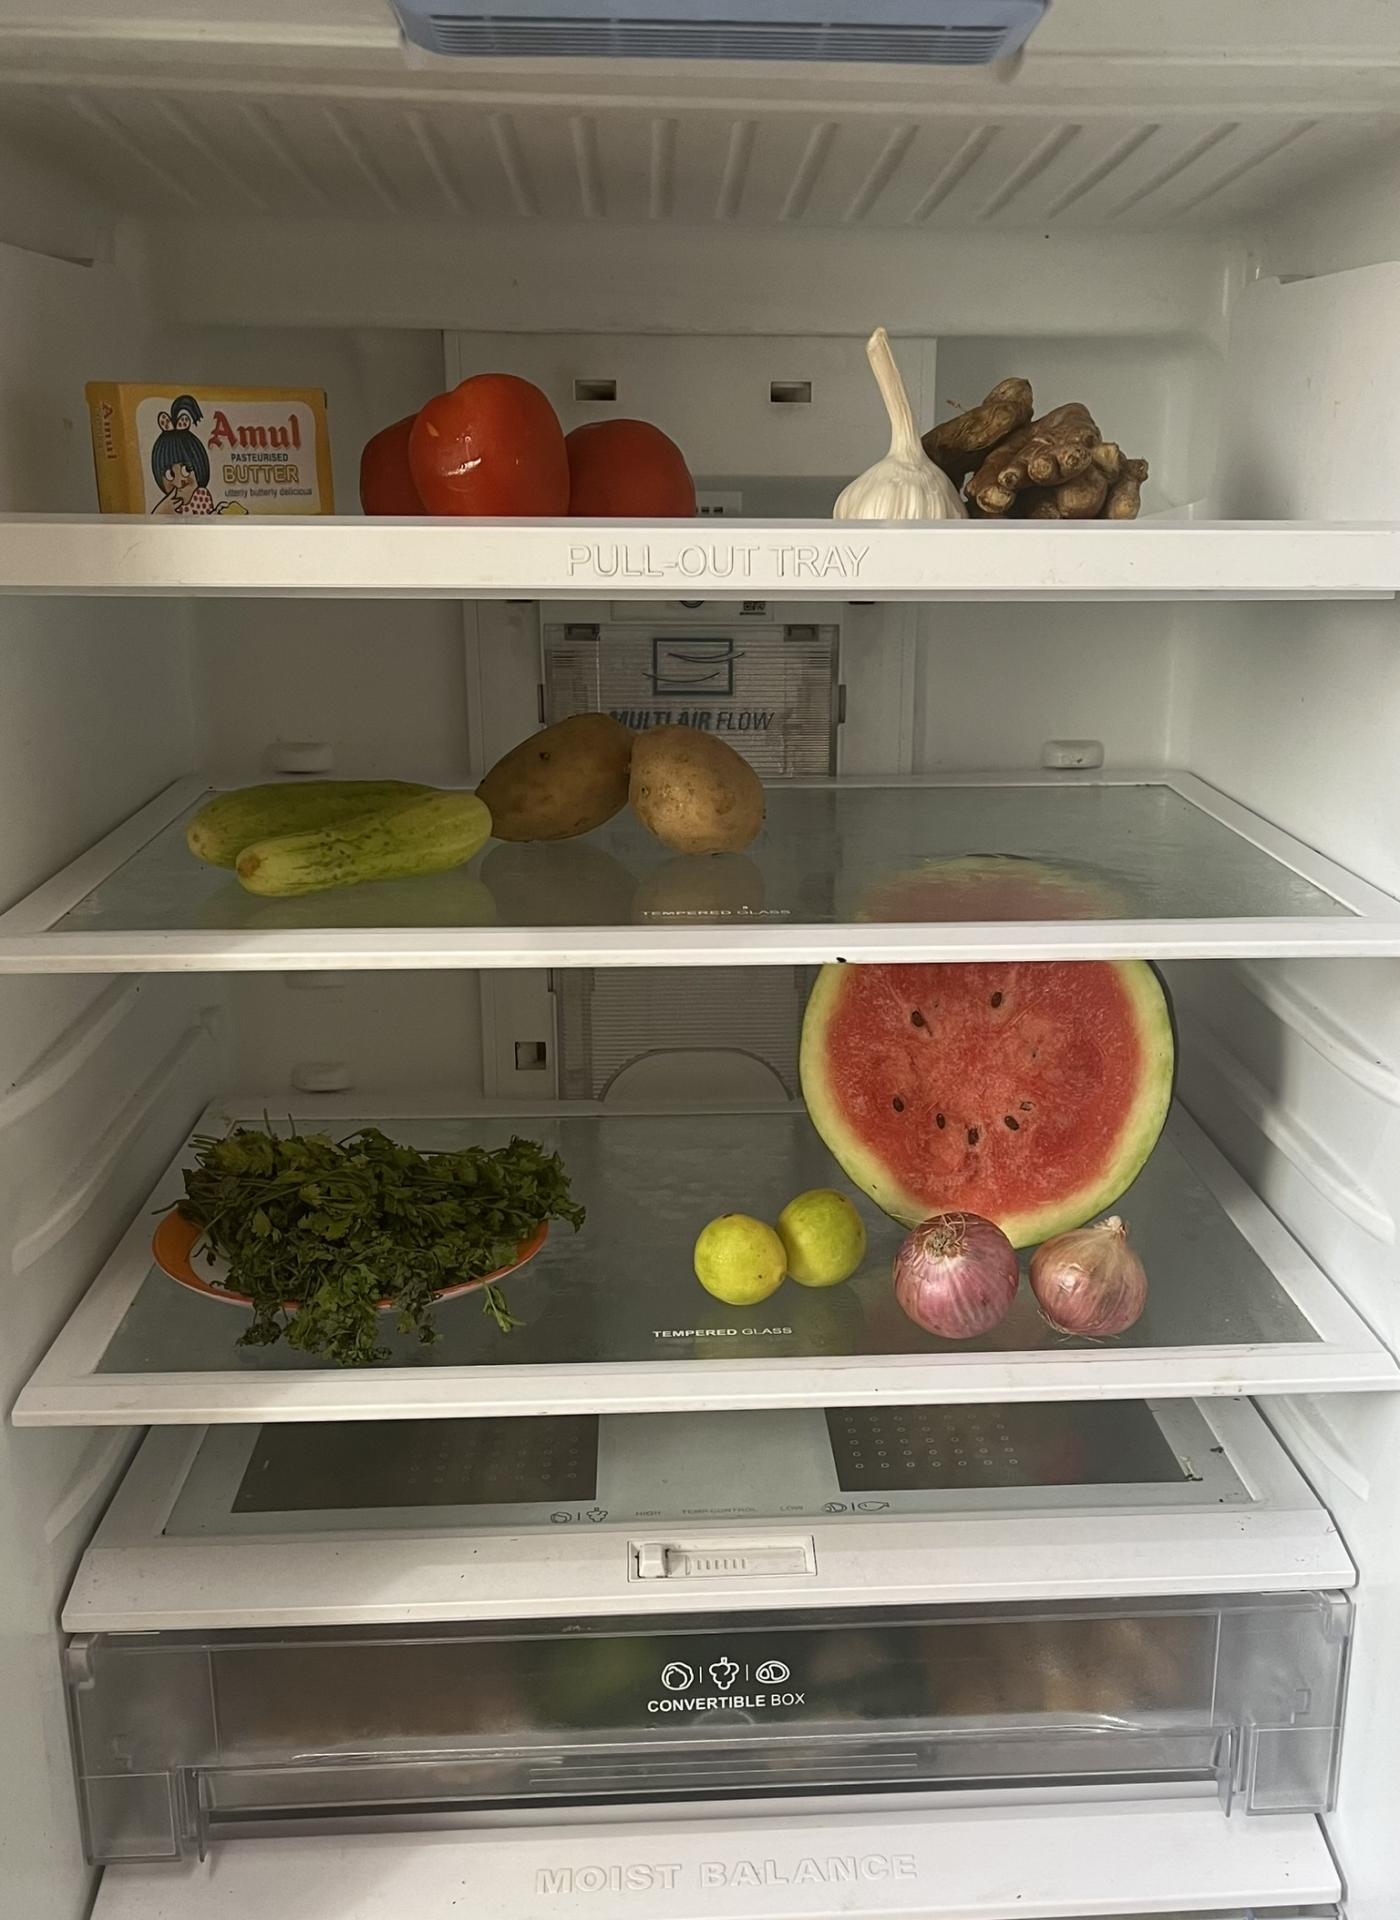butter: (88, 379, 337, 513)
coriander: (188, 1122, 568, 1348)
cucumber: (188, 778, 492, 881)
garlic: (830, 328, 966, 522)
ginger: (929, 379, 1148, 528)
lemon: (696, 1181, 863, 1300)
onion: (887, 1209, 1145, 1337)
potato: (483, 707, 766, 856)
tomato: (365, 362, 717, 522)
watermelon: (805, 872, 1182, 1245)
